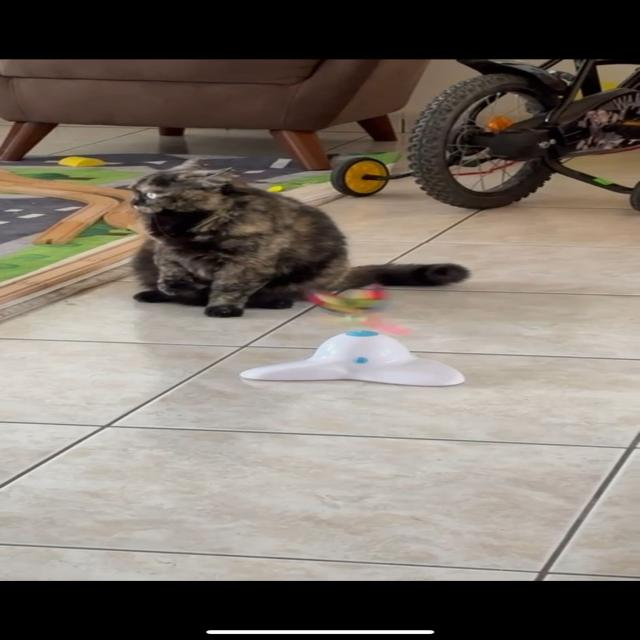authorized: (126, 156, 470, 318)
